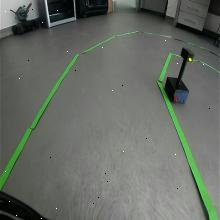green: (181, 47, 195, 63)
